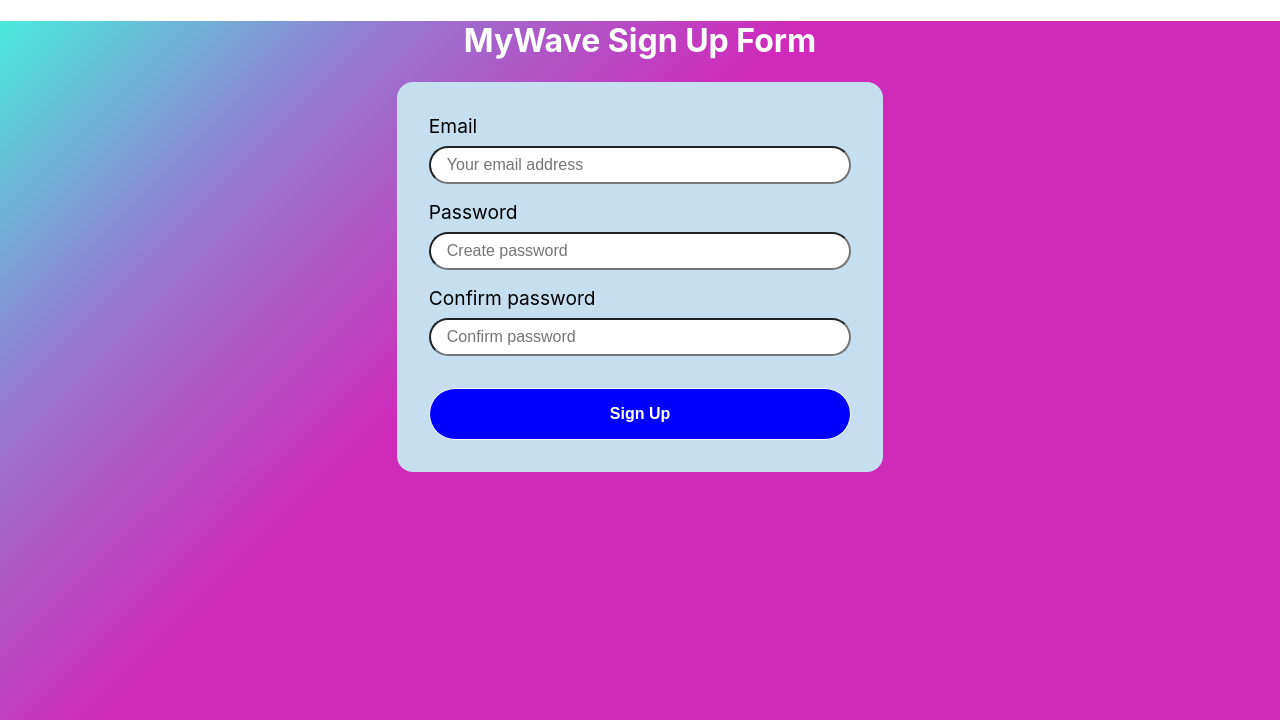
Scenario: SignupForm › should show error message when user add invalid email
Step 1. Type "test" into the field named "Email field" → coordinates (640, 165), box [429,146,851,184]
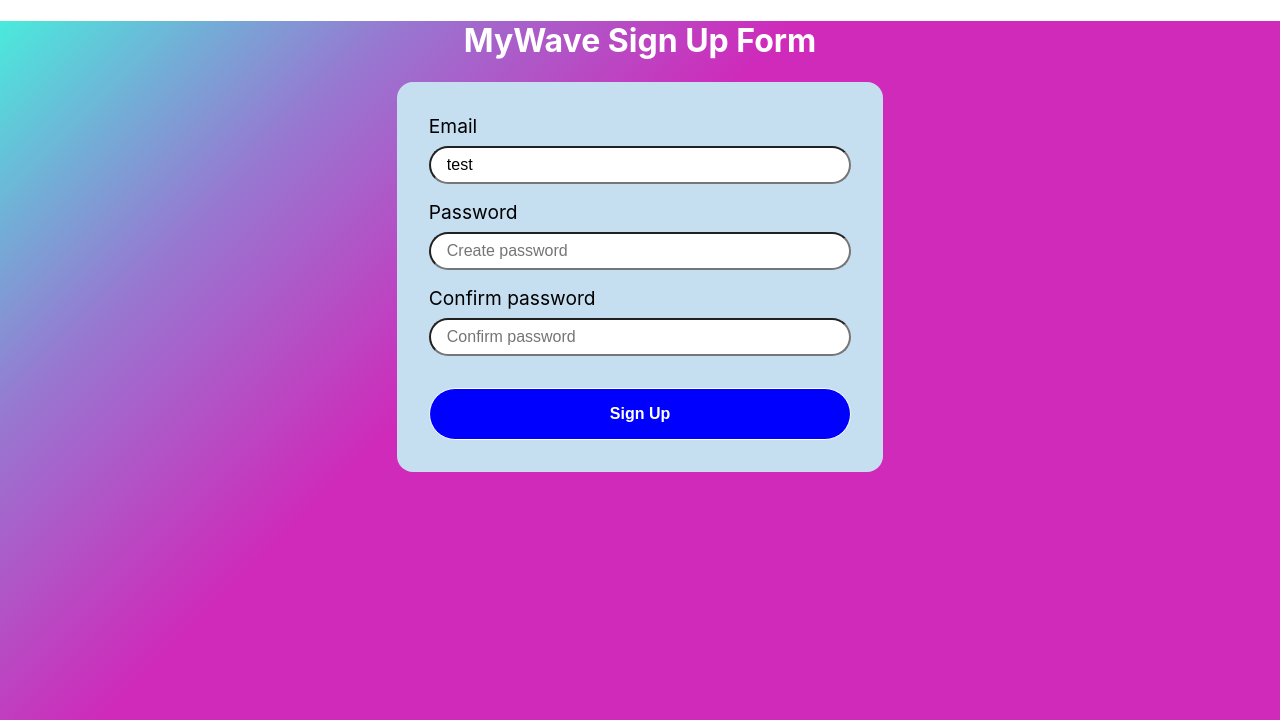
Step 2. Leave the field named "Email field", box [429,146,851,184]
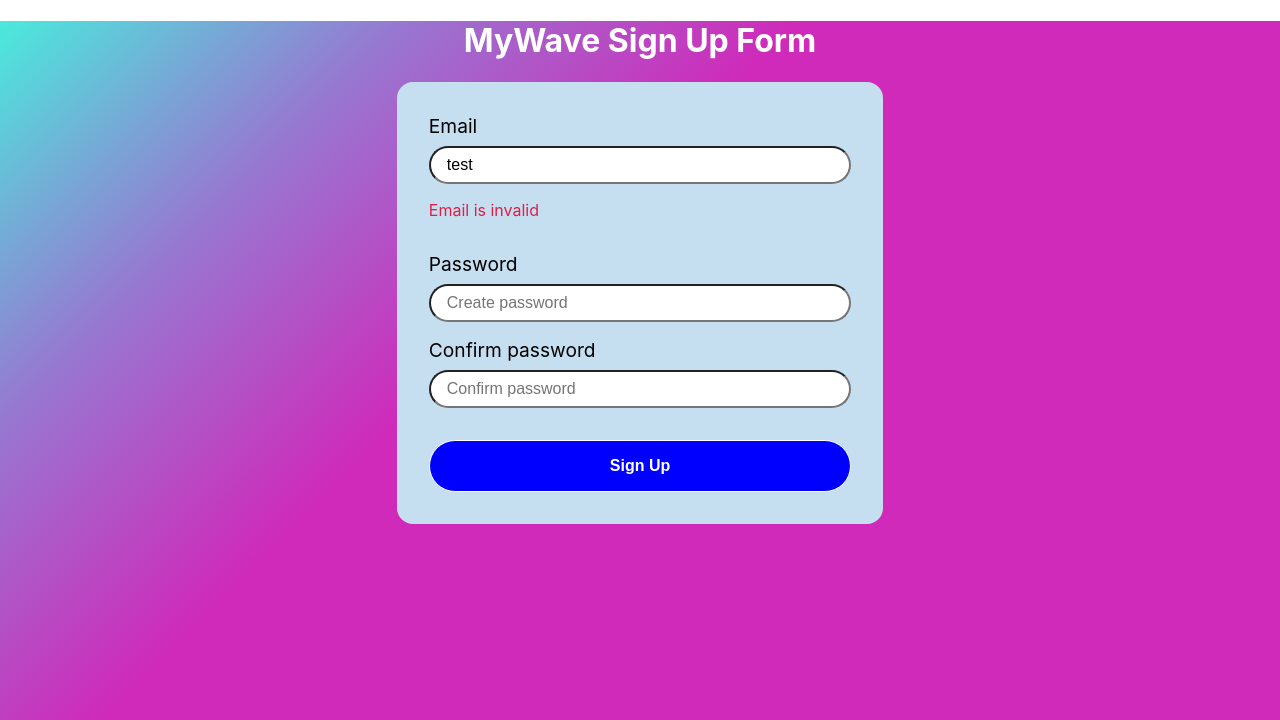
Expected: the text with test id "emailError" reads "Email is invalid", [429,200,539,220]
